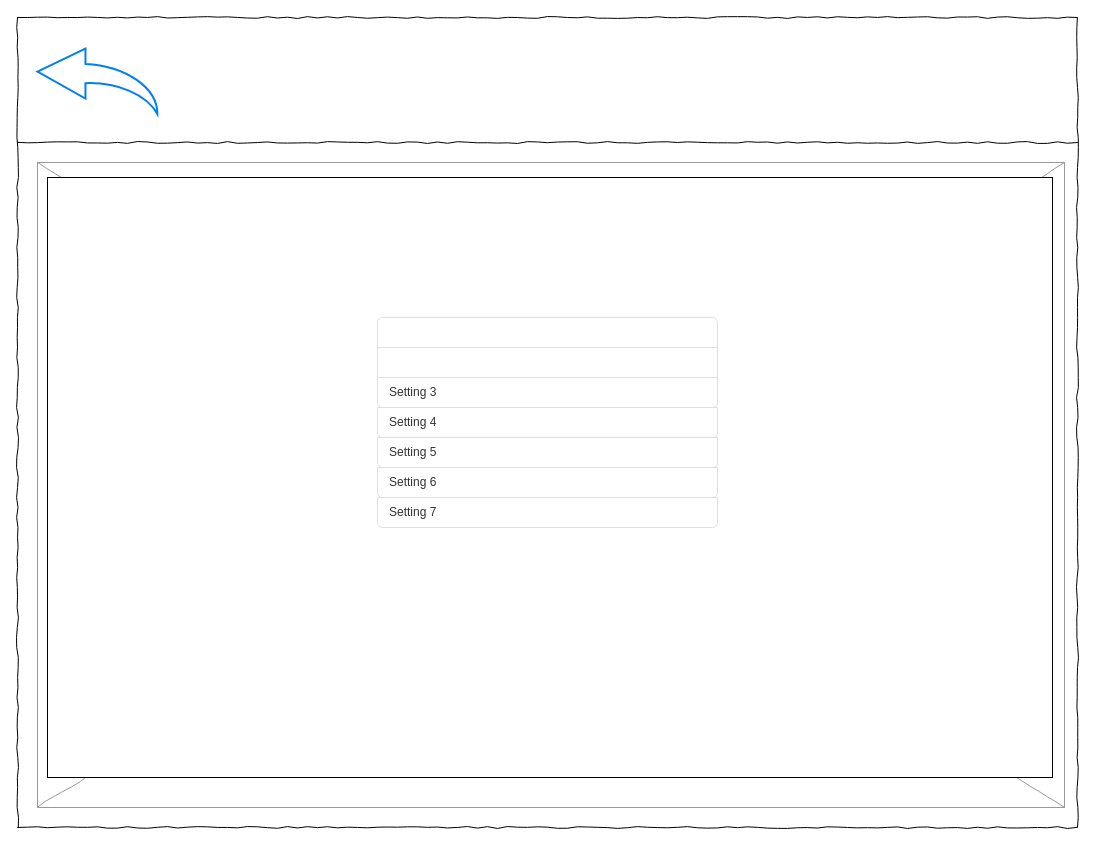
Image size: 1095x845. Some labels were removed from this diagram. Here are the shapes that lost their labels. From the top down, the box of each, then its label:
(376, 316, 718, 348): Setting 1
(376, 346, 718, 378): Setting 2
